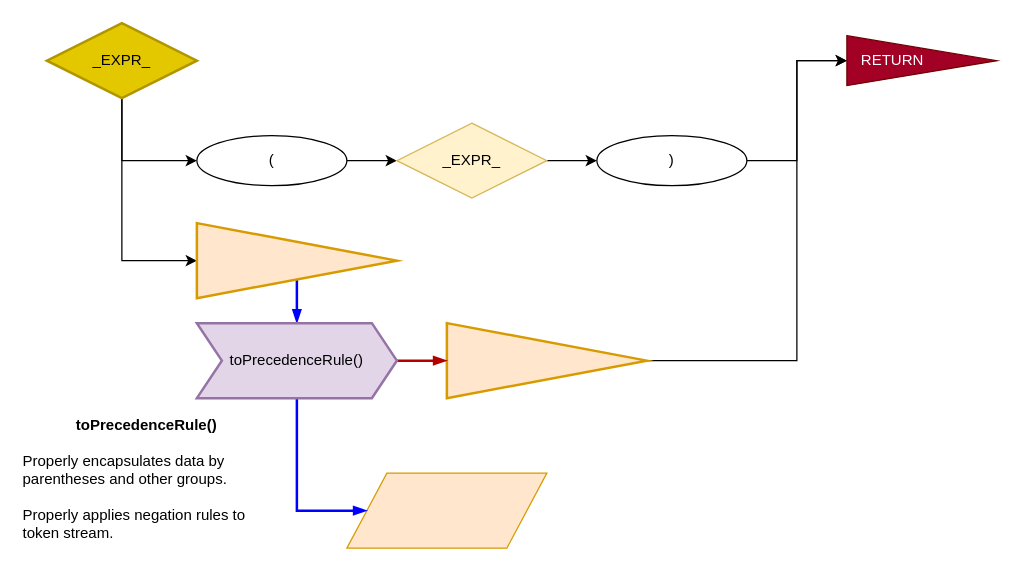
This 1019x570 diagram has some shape labels left out. The shapes that lost their labels are listed below. From the top down, each one's box as (x1, y1, x2, y2) in pixels, then its label:
(195, 221, 398, 299): To Precedence Flow
(445, 321, 648, 399): To CFG Flow
(346, 472, 547, 548): __PRECEDENCE1__
